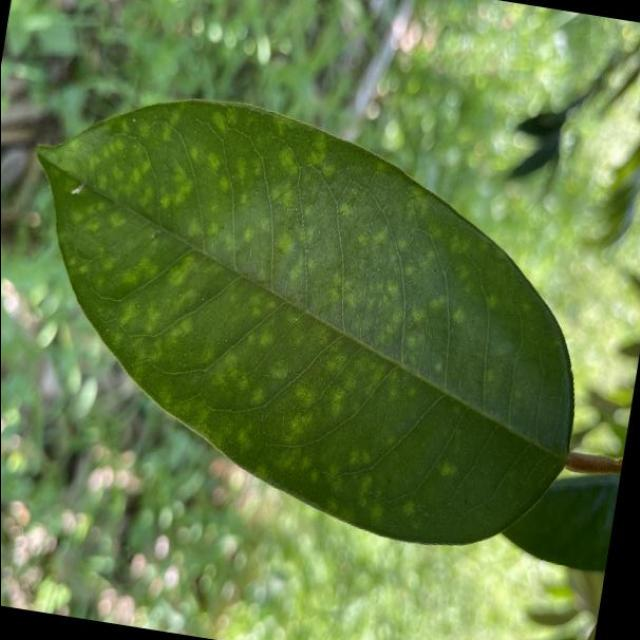Leaf Spot: (0, 60, 628, 575)
